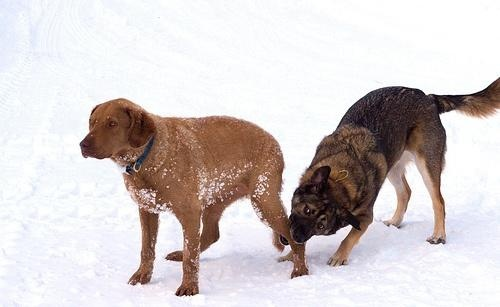dog: (80, 98, 309, 298), (282, 77, 500, 267)
